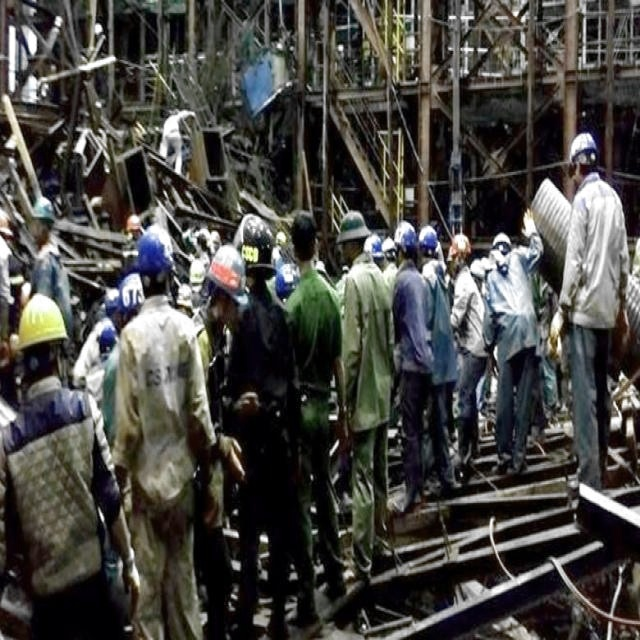Con_Casco: (20, 294, 69, 383)
